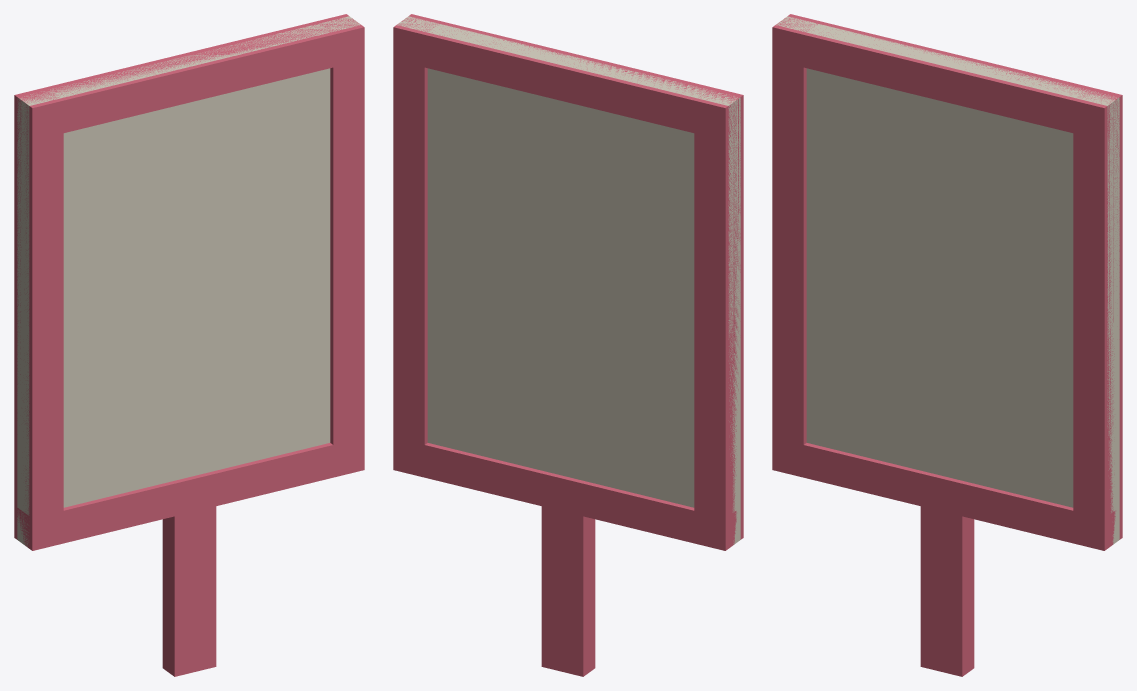
File: race-sign-1.obj
3 renders of one model, left to right at view 1: azimuth 30°, elevation 25°; view 2: azimuth 150°, elevation 25°; view 3: azimuth 330°, elevation 25°, orthographic.
Parts seen in each view (by area): view 1: gate; view 2: gate; view 3: gate.
Boxes of the visible parts, x1=… form: gate: x1=14, y1=14, x2=364, y2=676; gate: x1=393, y1=14, x2=743, y2=676; gate: x1=772, y1=14, x2=1122, y2=676.
Size of the model in its own units: 255 by 445 by 24.
